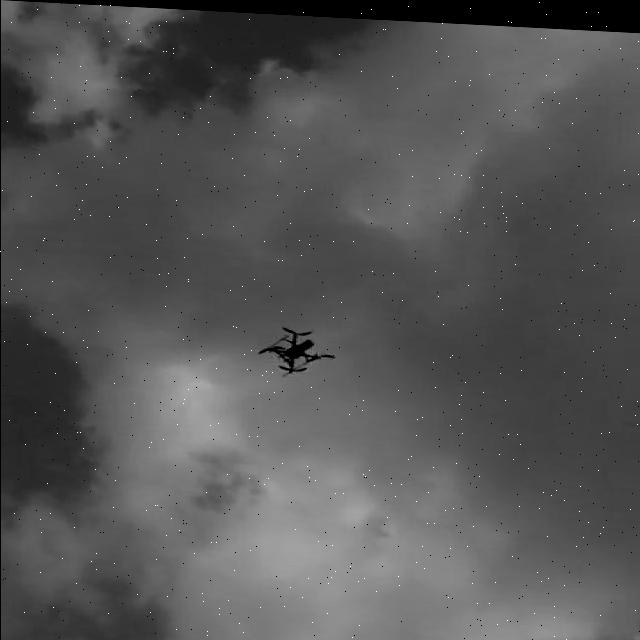drone: (252, 324, 338, 380)
